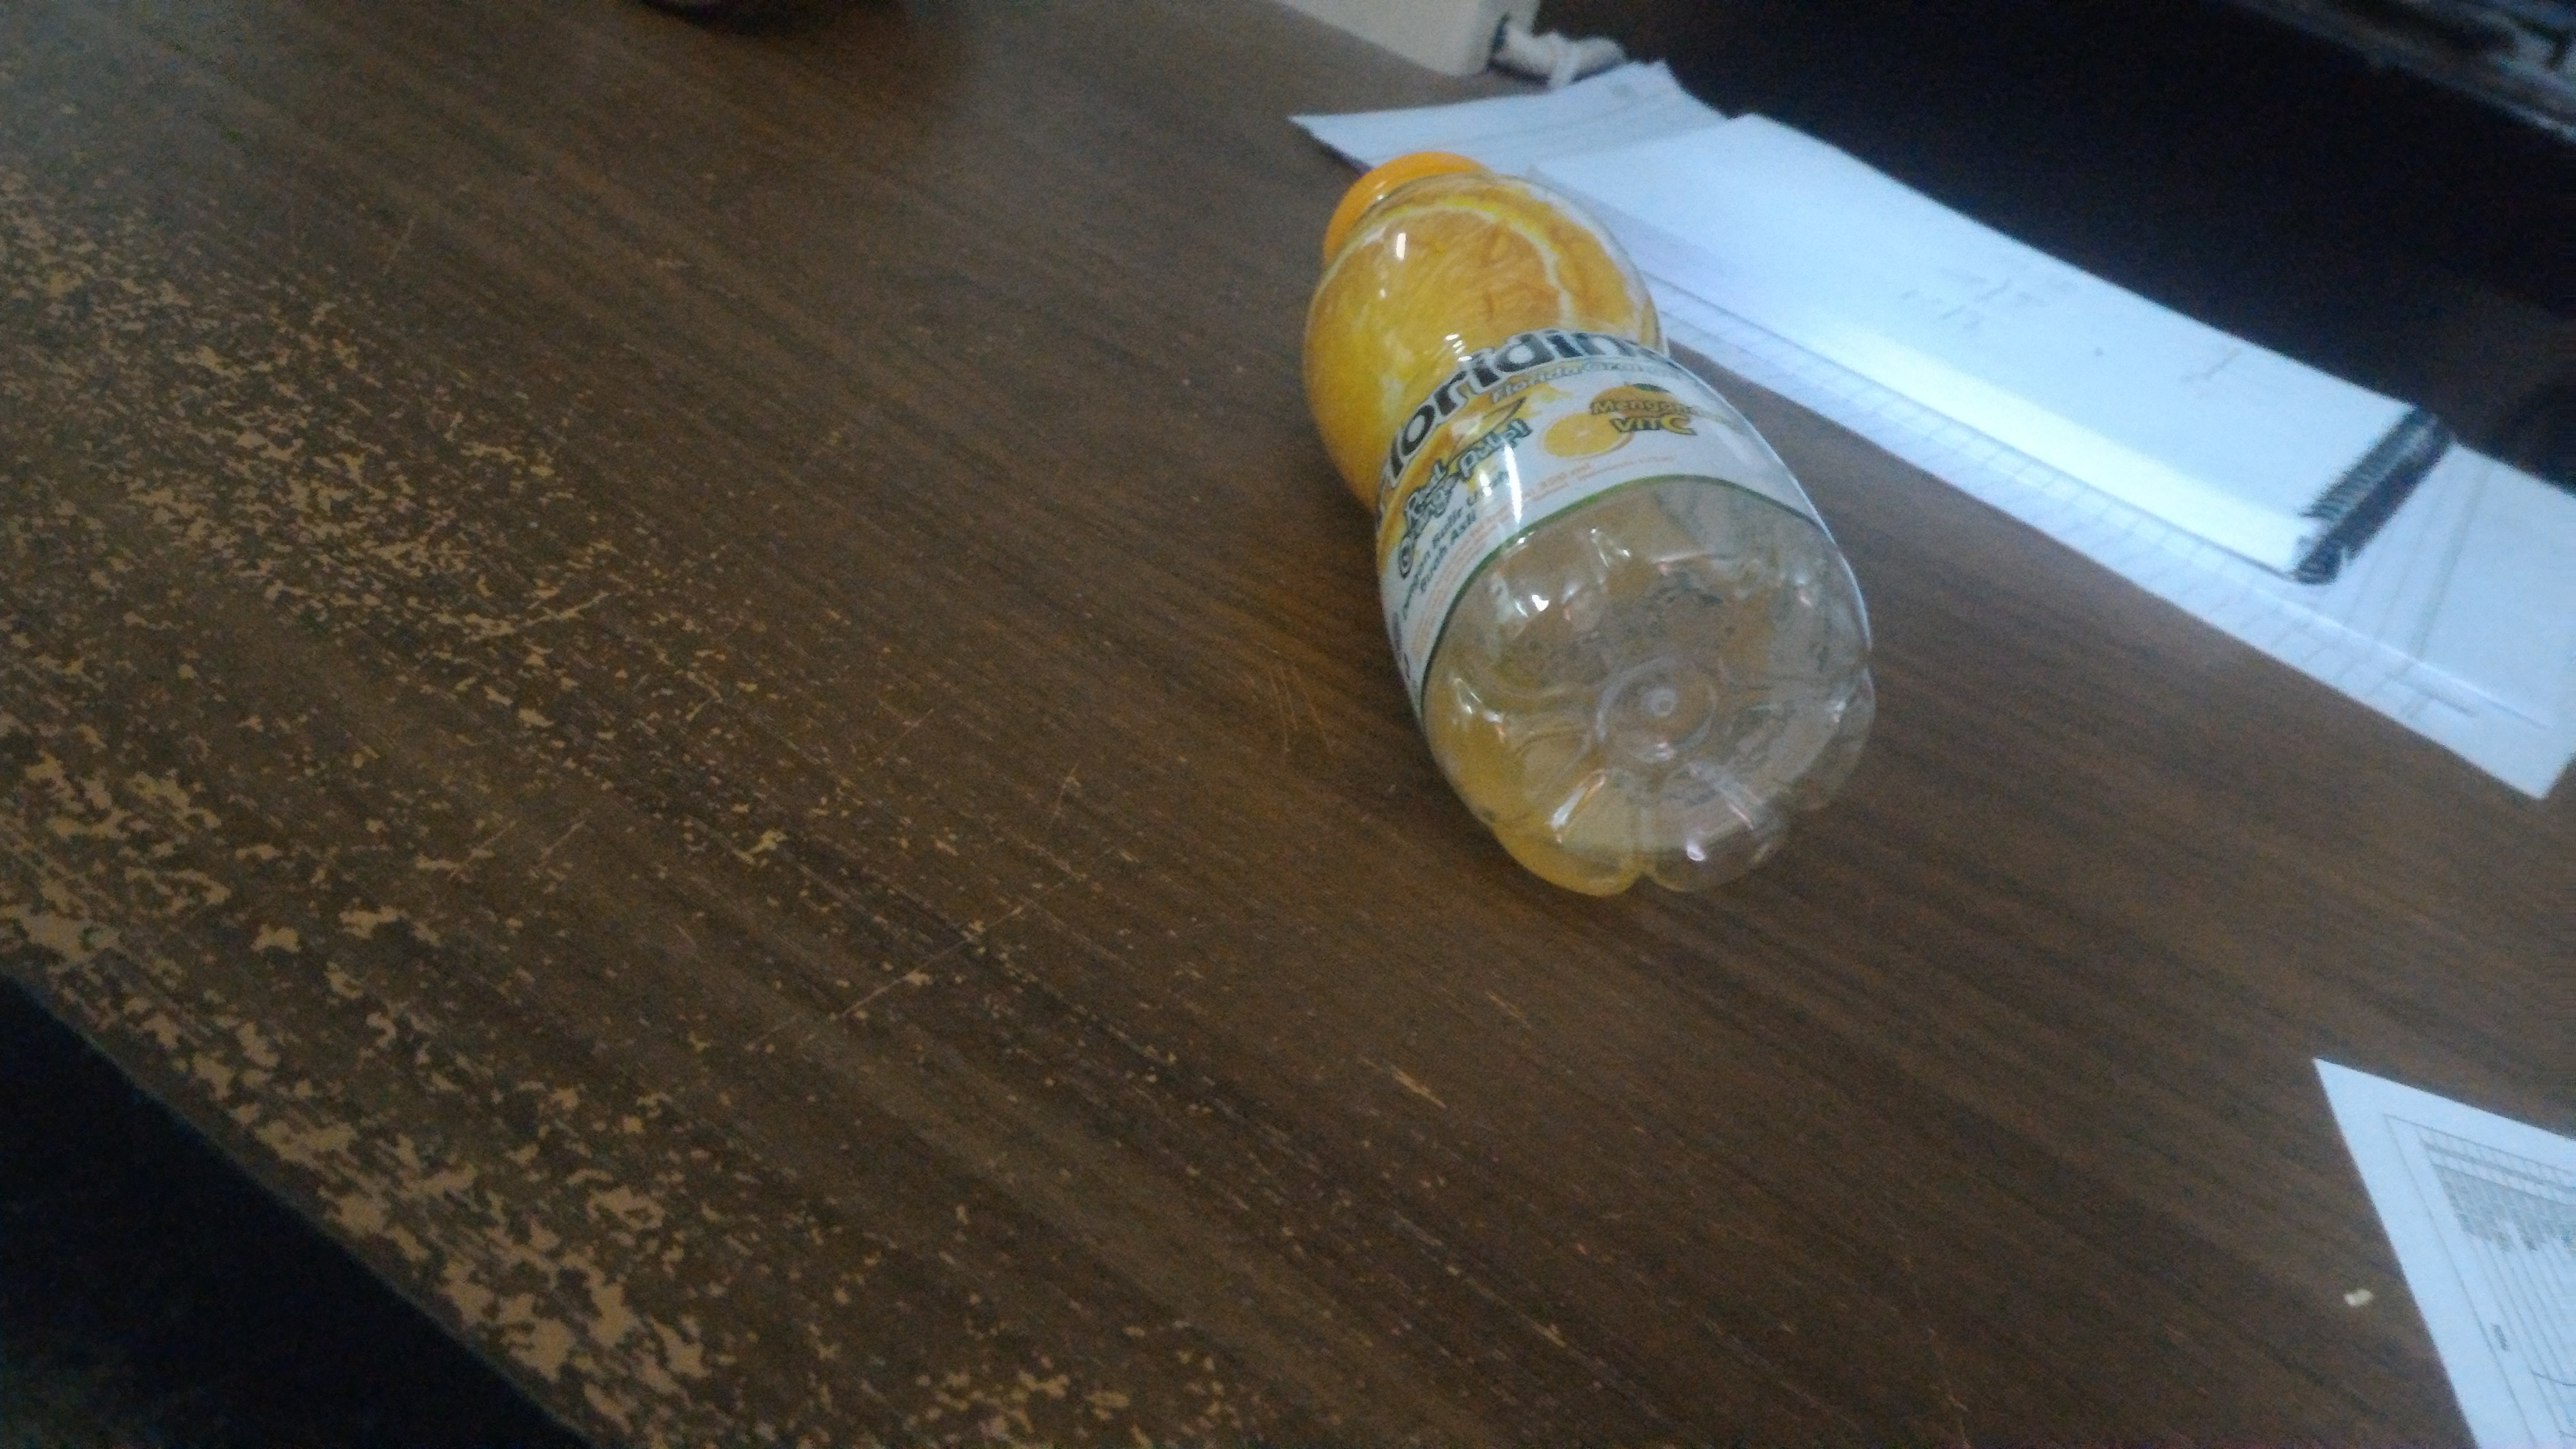botol: (1297, 140, 1877, 892), (1297, 147, 1877, 892)
